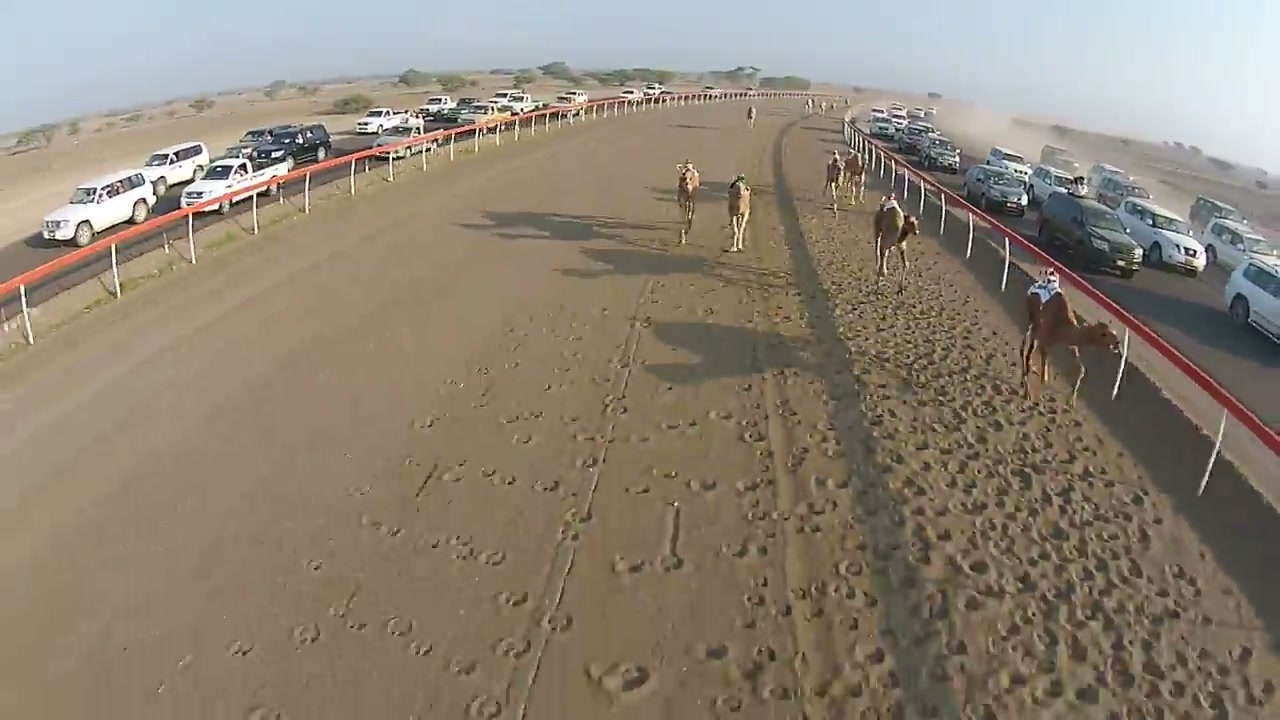animal_footprint: (544, 236, 1269, 716), (806, 231, 1268, 716), (531, 303, 784, 715), (940, 523, 1198, 693), (332, 518, 528, 716), (945, 598, 1269, 715), (427, 308, 618, 505), (364, 406, 575, 584), (426, 308, 612, 507), (744, 367, 848, 712), (480, 349, 634, 552), (617, 464, 720, 571), (291, 585, 430, 654), (295, 586, 432, 656), (693, 642, 780, 713), (710, 644, 799, 712), (416, 461, 564, 500), (398, 451, 496, 502), (759, 451, 808, 514), (423, 535, 506, 567), (586, 664, 655, 702), (788, 427, 842, 470), (849, 641, 898, 688), (656, 501, 684, 571), (827, 673, 873, 709), (741, 497, 779, 538), (1164, 563, 1203, 600), (550, 412, 599, 438), (789, 504, 830, 534), (791, 497, 838, 522), (560, 507, 592, 540), (329, 585, 360, 619), (359, 514, 401, 538), (832, 612, 868, 639), (611, 555, 651, 578), (466, 695, 503, 719), (722, 540, 768, 559), (415, 463, 439, 499), (954, 555, 991, 577), (494, 637, 530, 659), (659, 418, 700, 437), (242, 703, 288, 719), (762, 681, 797, 702), (810, 474, 849, 492), (419, 535, 469, 549), (712, 694, 745, 715), (292, 622, 321, 645), (693, 642, 730, 660), (384, 615, 415, 636), (438, 533, 474, 551), (499, 410, 545, 424), (735, 476, 772, 493), (439, 461, 466, 484), (543, 612, 572, 633), (448, 656, 478, 676), (557, 518, 581, 542), (495, 591, 528, 608), (603, 396, 629, 417), (741, 591, 767, 611), (657, 554, 685, 571), (688, 478, 717, 494), (407, 640, 434, 657), (571, 429, 602, 443), (478, 550, 505, 566), (575, 452, 599, 470), (411, 415, 438, 431), (650, 467, 680, 481), (228, 640, 254, 656), (489, 473, 518, 487), (533, 478, 560, 492), (741, 428, 766, 443), (707, 409, 734, 422), (624, 482, 651, 495), (345, 484, 371, 497), (479, 466, 498, 482), (625, 432, 652, 443), (511, 433, 535, 445), (523, 409, 547, 421), (304, 558, 322, 573), (697, 307, 715, 317), (738, 382, 755, 392), (504, 359, 520, 369), (723, 246, 741, 252)
